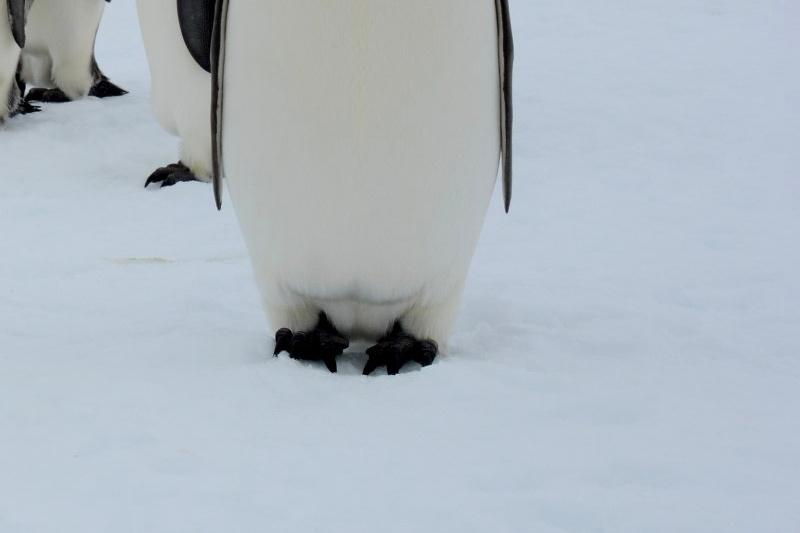Emperor Penguin: (157, 0, 594, 434), (113, 0, 270, 255), (0, 0, 141, 143), (0, 0, 29, 155)
